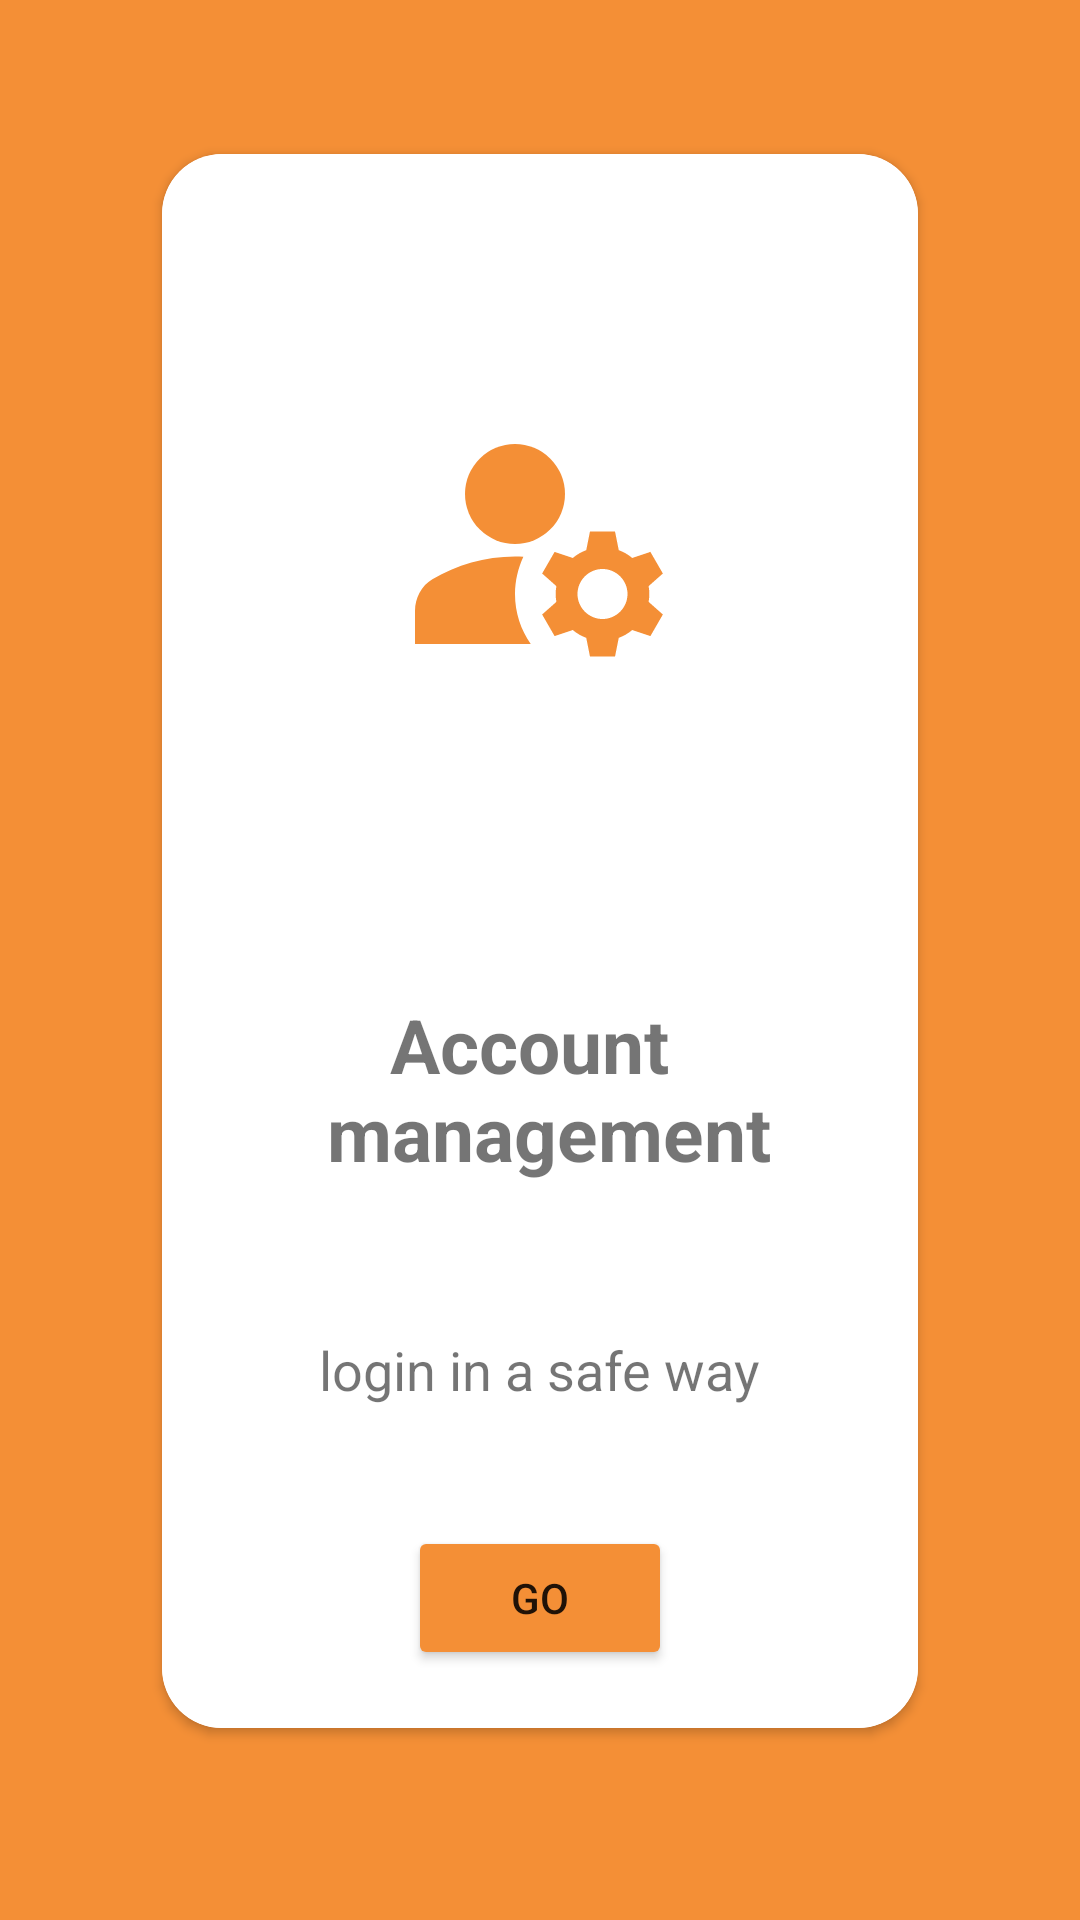

Icons on this 1080w x 1920h Android screen, each with its box as (x1, y1, x2, y2):
manage accounts: (415, 444, 663, 657)
